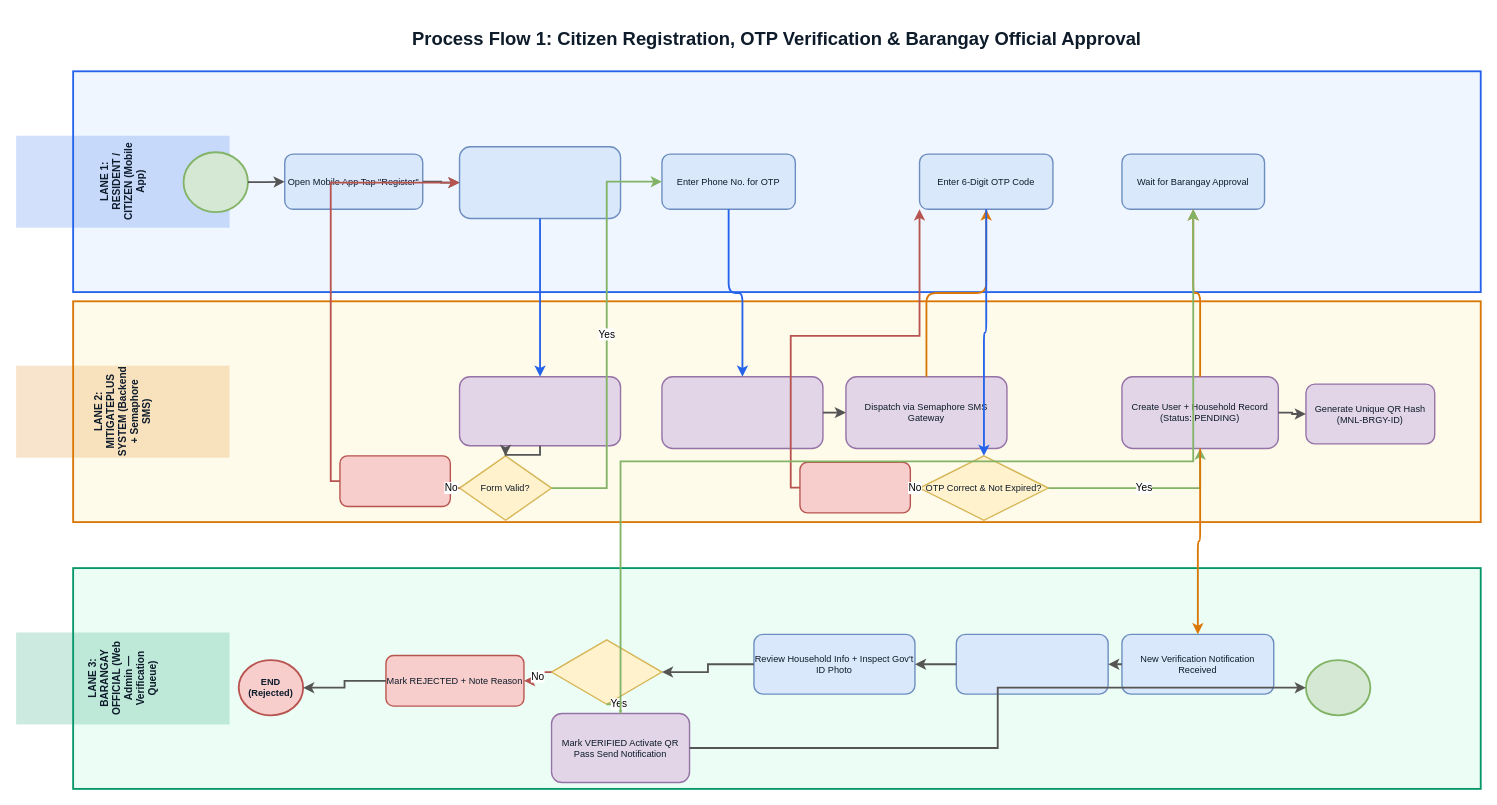
This 1497x805 diagram has some shape labels left out. Here are the shapes that lost their labels. From the top down, the centre of each, then its label:
At pixel 215 182: "START".
At pixel 539 182: "Fill Household Form (Name, Address, Barangay, Members + Gov't ID Photo)".
At pixel 539 411: "Validate Form (Required Fields, Barangay Code)".
At pixel 742 412: "Generate Cryptographic 6-Digit OTP (5-min Expiry)".
At pixel 395 481: "Show Validation Error".
At pixel 855 487: "Show Error Offer Resend OTP".
At pixel 606 672: "Approve Registration?".
At pixel 1031 663: "Open Verification Queue in Web Admin".
At pixel 1338 687: "END (Verified)".
